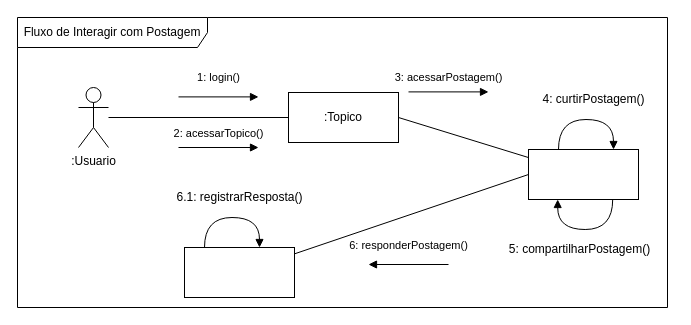
Image size: 691x325. Some labels were removed from this diagram. Each missing label, with the centre of its shape:
:Postagem: the point at 583,174
:Resposta: the point at 239,272
